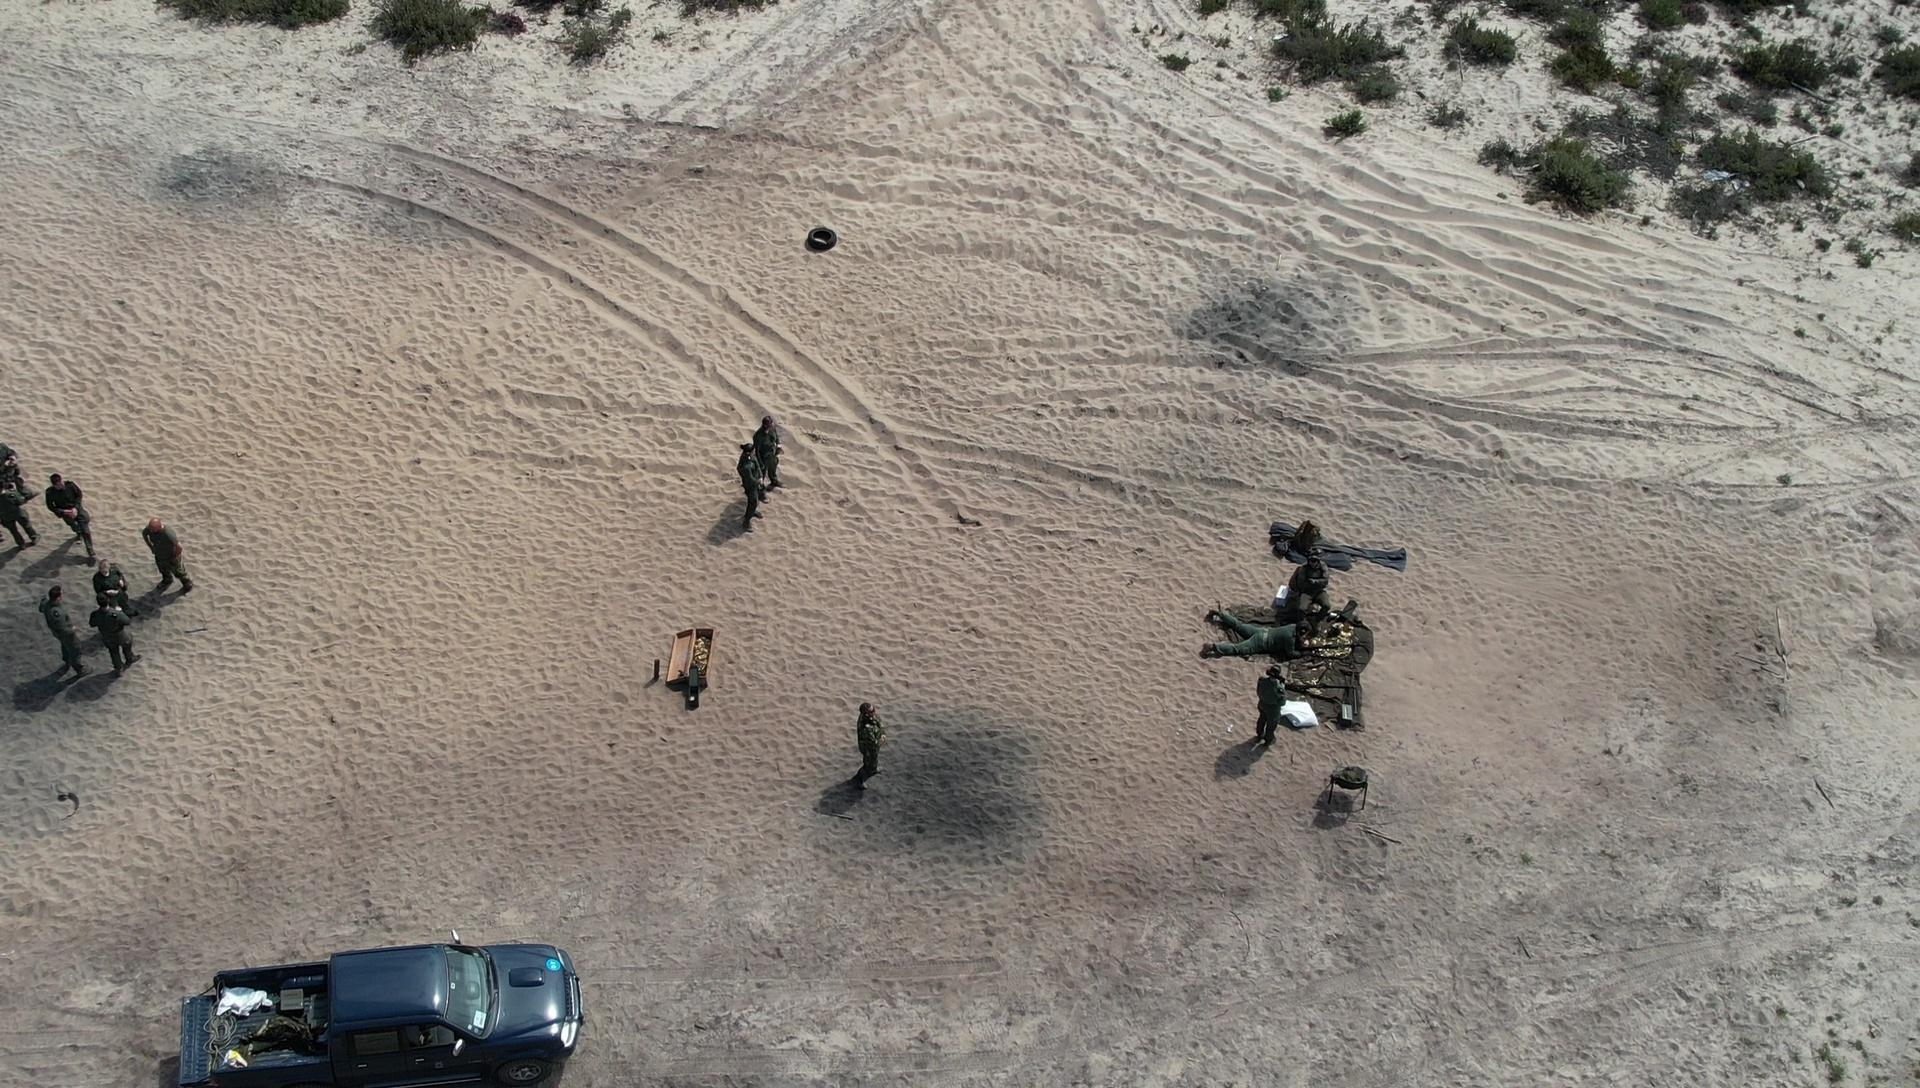Soldier: (1216, 596, 1332, 682), (135, 516, 207, 604), (32, 586, 86, 696), (1280, 535, 1344, 626), (36, 464, 100, 546), (84, 586, 144, 674), (843, 702, 899, 793), (1249, 651, 1291, 758), (745, 417, 786, 504), (738, 429, 771, 528)
